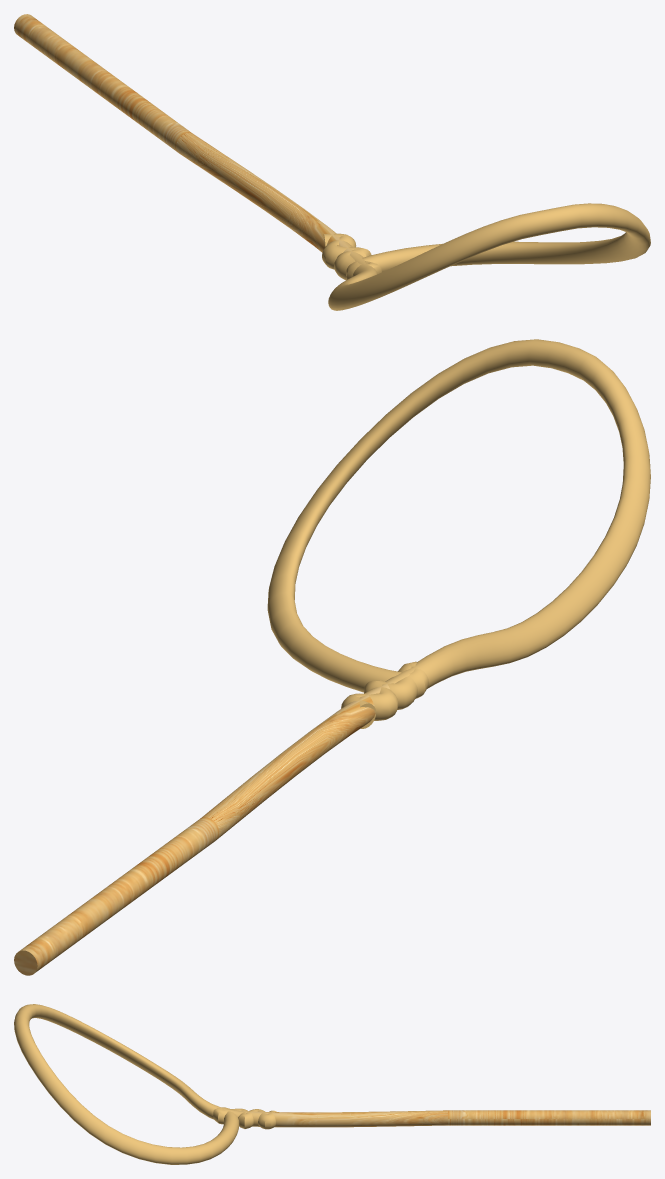
File: corda_nova.fbx
3 renders of one model, top to bottom at view 1: azimuth 30°, elevation 25°; view 2: azimuth 150°, elevation 25°; view 3: azimuth 270°, elevation 25°, orthographic. The views are drawn at different scales.
Parts seen in each view (by area): view 1: pCylinder2; view 2: pCylinder2; view 3: pCylinder2.
Boxes of the visible parts, box(x1,y1,x2,y2) form: pCylinder2: box(14, 14, 650, 310); pCylinder2: box(14, 339, 650, 975); pCylinder2: box(14, 1004, 650, 1164).
Size of the model in its own units: 3.73 by 2.36 by 11.53.
Materials: 1 (1 with a texture image).
